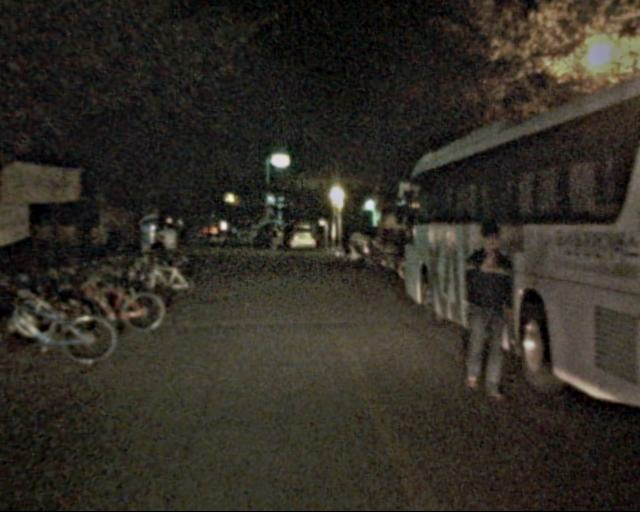person: (453, 213, 528, 406), (156, 222, 179, 277)
